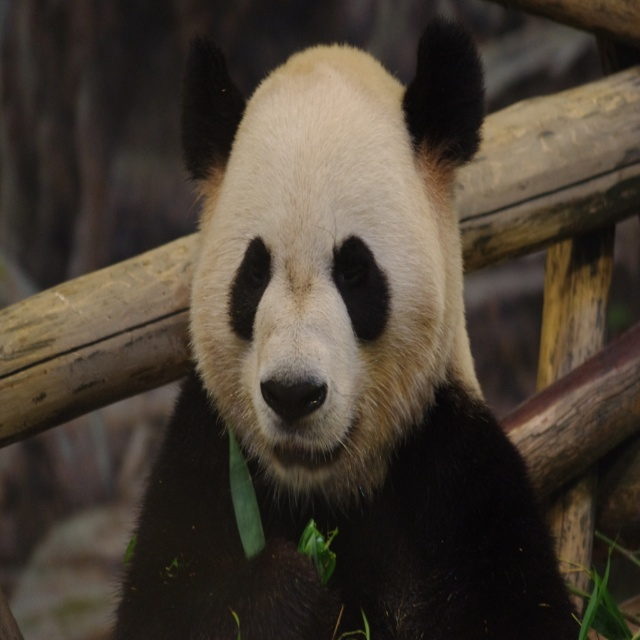Panda: (106, 10, 579, 640)
